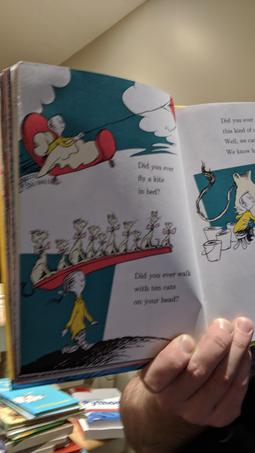text block: (126, 260, 196, 308), (203, 107, 255, 157), (127, 153, 178, 201)
